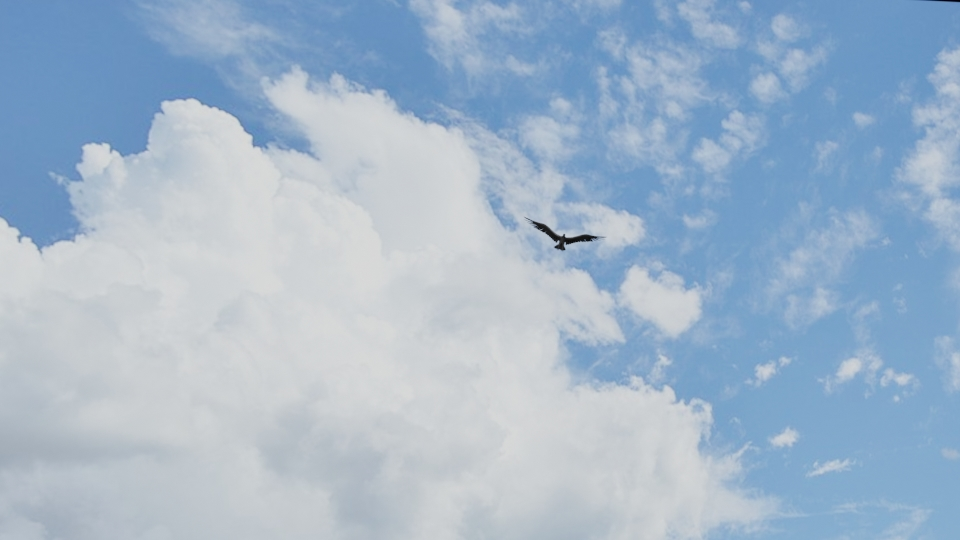bird: (520, 216, 605, 254)
